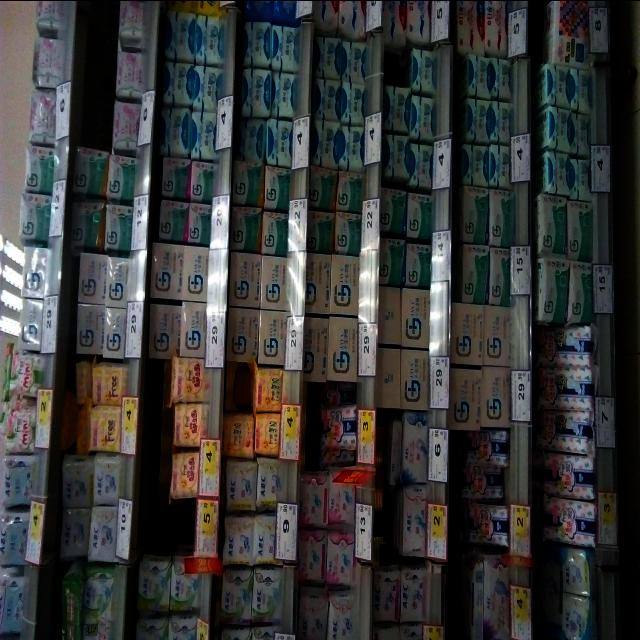empty_space: (151, 502, 192, 555)
